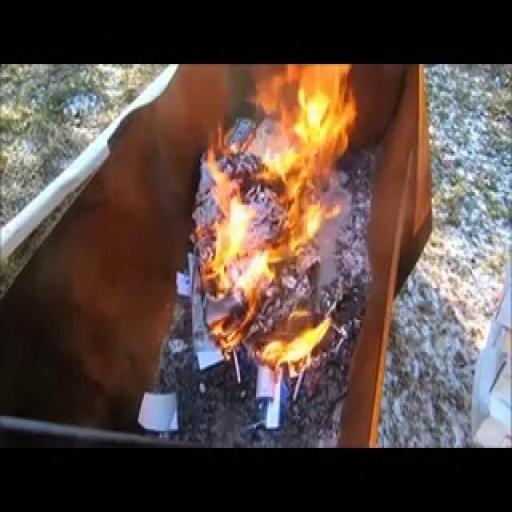smoke: (192, 64, 363, 369)
